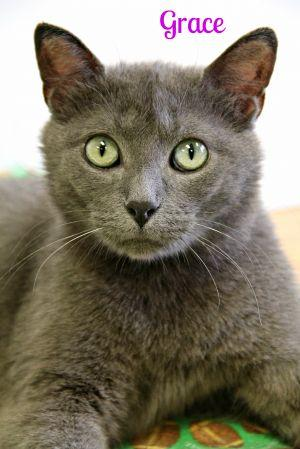rblue: (18, 1, 293, 297)
